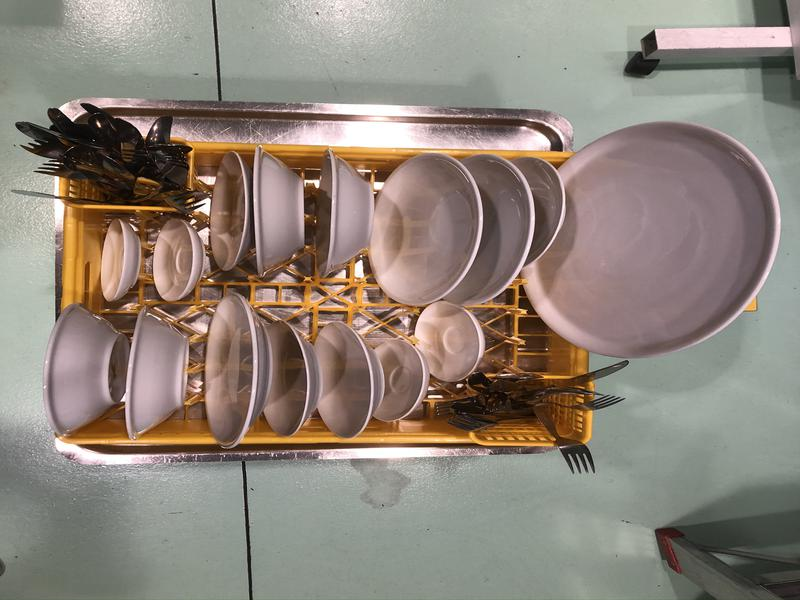Cutlery: (7, 103, 203, 214), (441, 360, 625, 475)
Dish: (537, 121, 784, 359), (370, 151, 482, 307), (47, 302, 133, 433), (462, 152, 532, 305), (205, 290, 271, 448), (120, 310, 188, 439), (258, 319, 324, 440), (312, 321, 382, 434), (251, 144, 307, 276), (320, 148, 369, 276), (416, 300, 488, 384), (514, 152, 565, 267), (211, 150, 252, 270), (372, 341, 427, 421), (99, 221, 131, 304)
